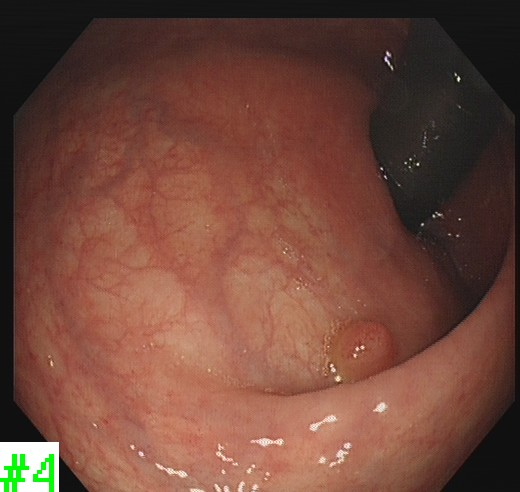others: (327, 317, 396, 383)
